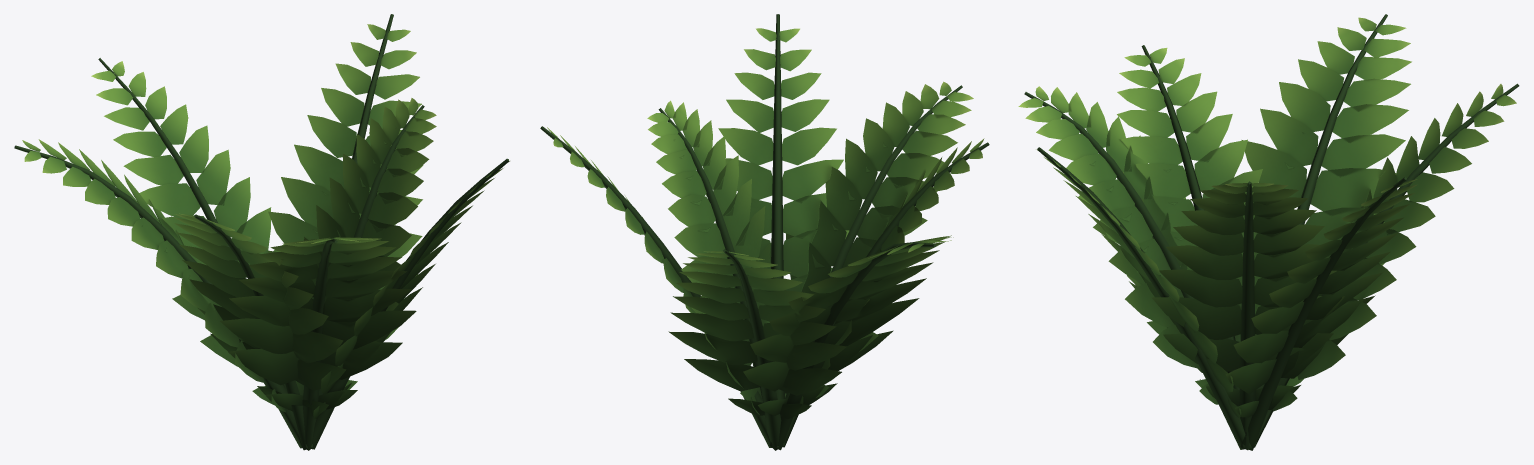
The model's file is fern_b.glb.
3 views of the same model, side by side, from view 1: azimuth 30°, elevation 25°; view 2: azimuth 150°, elevation 25°; view 3: azimuth 270°, elevation 25° (orthographic). The views are drawn at different scales.
Visible parts, largest first — view 1: fern_b; view 2: fern_b; view 3: fern_b.
Boxes of the visible parts, x1=… form: fern_b: x1=14, y1=14, x2=509, y2=450; fern_b: x1=540, y1=14, x2=989, y2=450; fern_b: x1=1018, y1=14, x2=1519, y2=450.
Size of the model in its own units: 0.4209 by 0.344 by 0.443.
Materials: 1 (1 with a texture image).
